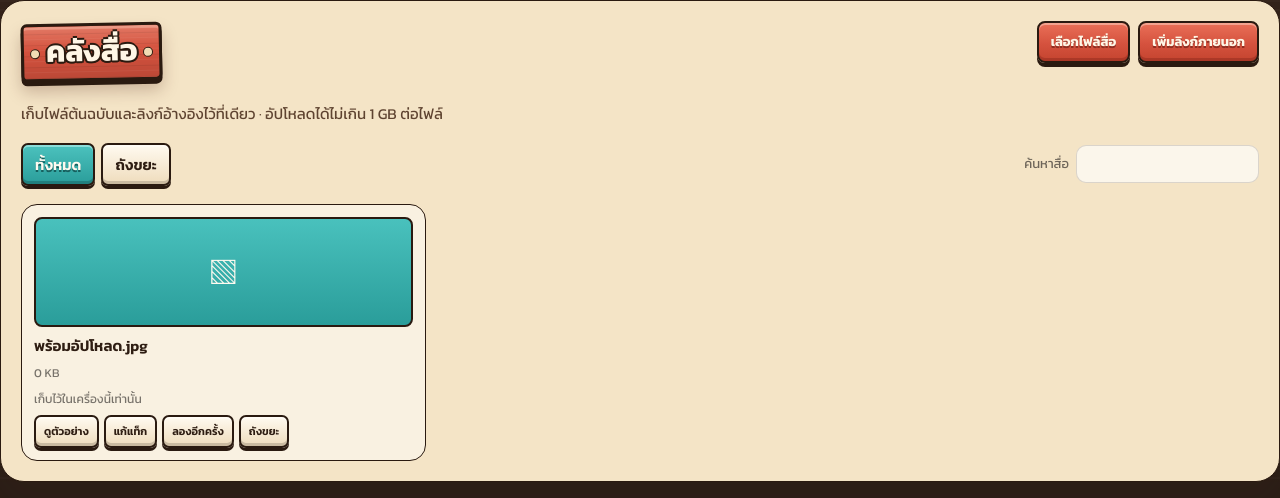
MediaLibraryWorkspace › can retry a local-only upload after Google Drive becomes available
Click the button with aria-label "ลองอัปโหลด พร้อมอัปโหลด.jpg อีกครั้ง" at coordinates (198, 432), box [162, 415, 234, 448]
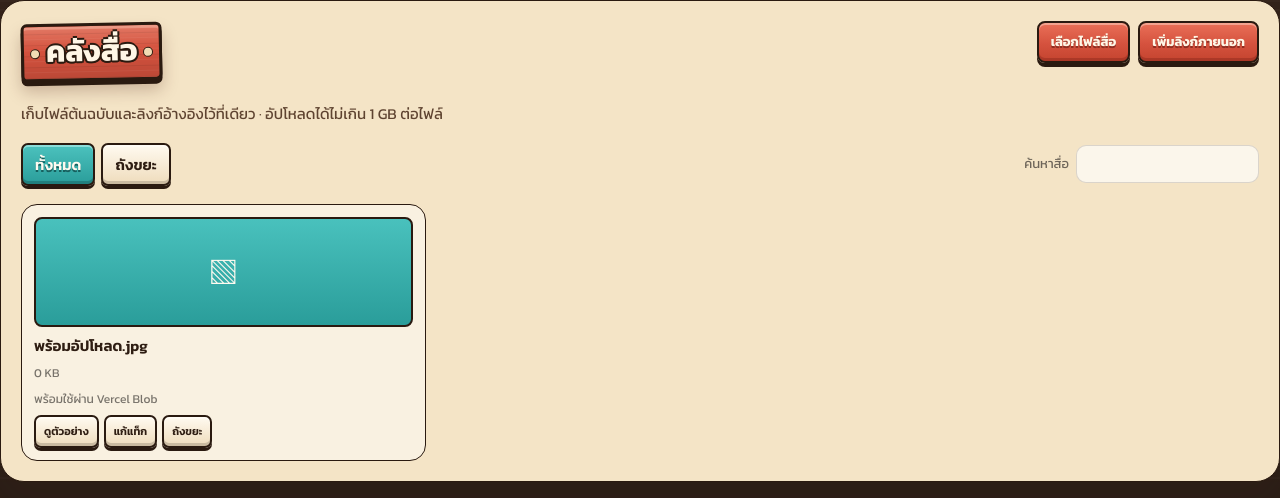
Expected: the text "พร้อมใช้ผ่าน Vercel Blob" is shown, [34, 390, 157, 408]
